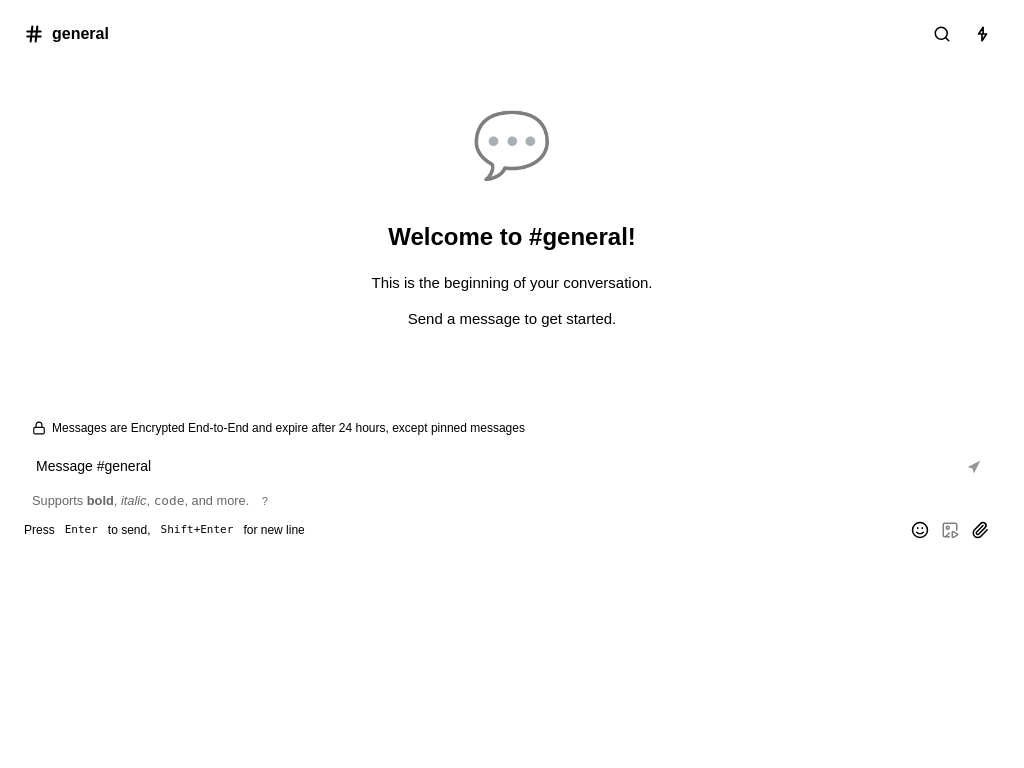
Test: ChatView › pin retention when pins are kept (#3459) › reaches the composer sentence and the pinned panel note
The image size is (1024, 768).
Expected: the text "Messages are Encrypted End-to-End and expire after 24 hours, except pinned messages" is shown, left=52, top=421, right=525, bottom=435
Click the button named "Pinned messages" at (982, 34), box left=964, top=20, right=1000, bottom=48
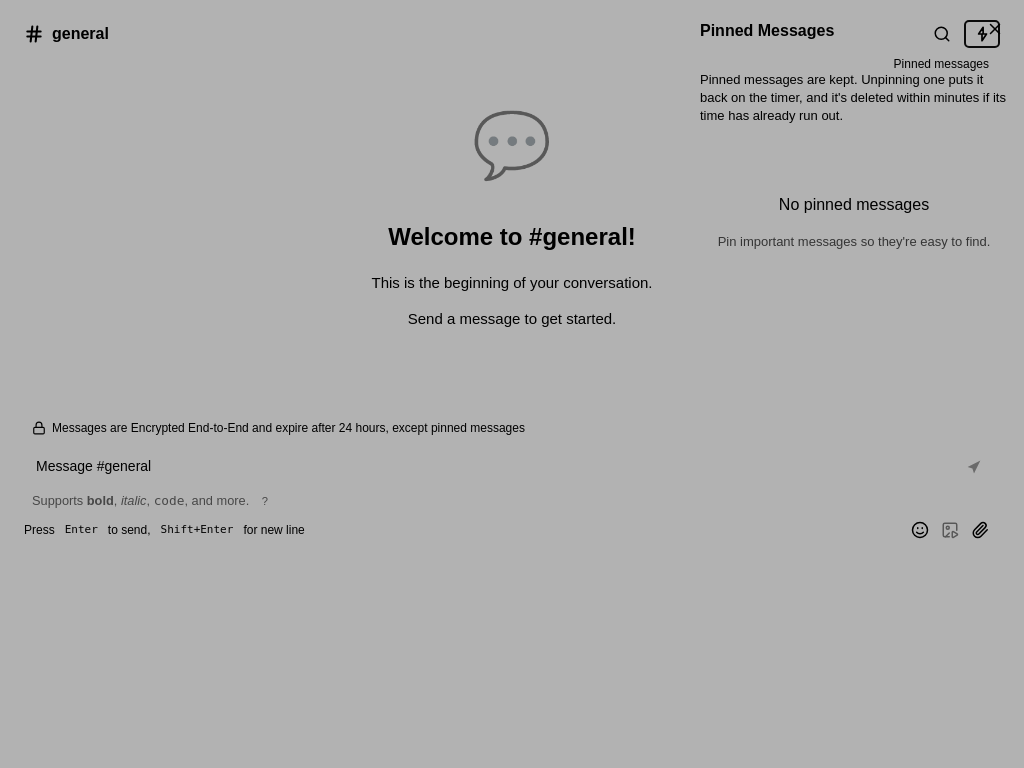
Result: the text "Pinned messages are kept. Unpinning one puts it back on the timer" is shown at left=700, top=72, right=1006, bottom=123
